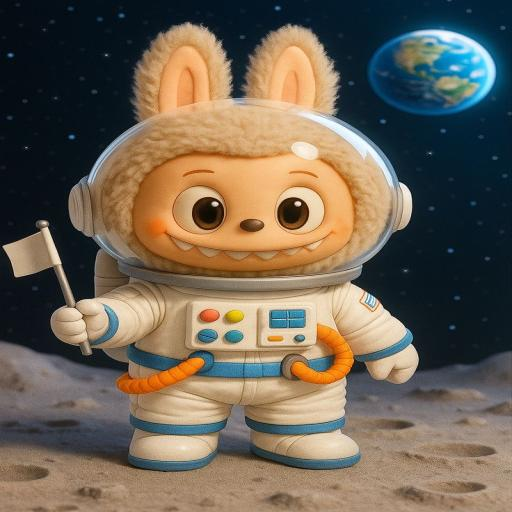labubu: (80, 28, 395, 476)
